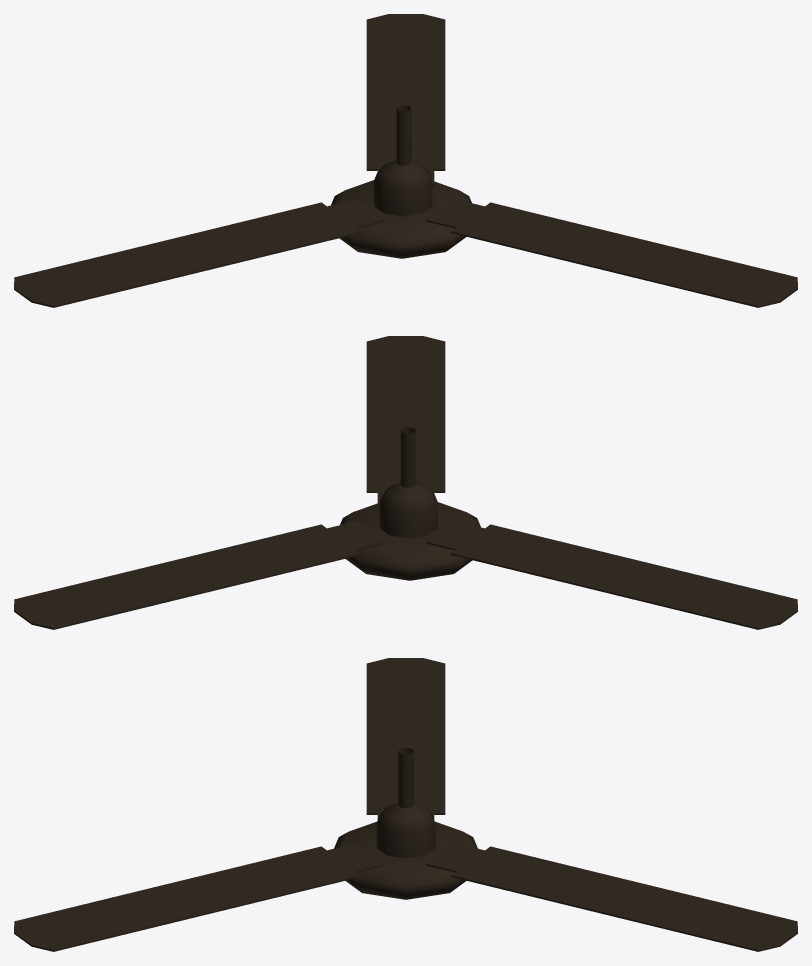
3 renders of one model, top to bottom at view 1: azimuth 30°, elevation 25°; view 2: azimuth 150°, elevation 25°; view 3: azimuth 270°, elevation 25°, orthographic.
Visible parts, largest first — view 1: blade2_low, blade1_low, blade3_low, body_low; view 2: blade3_low, blade2_low, blade1_low, body_low; view 3: blade3_low, blade1_low, blade2_low, body_low.
Part boxes in pixels (x1,y1,x2,y2): blade2_low: [14, 199, 385, 307]; blade1_low: [426, 199, 797, 307]; blade3_low: [366, 14, 445, 185]; body_low: [331, 105, 471, 258]; blade3_low: [14, 521, 385, 629]; blade2_low: [426, 521, 797, 629]; blade1_low: [366, 336, 445, 507]; body_low: [340, 427, 480, 580]; blade3_low: [426, 843, 797, 951]; blade1_low: [14, 843, 385, 951]; blade2_low: [366, 658, 445, 819]; body_low: [334, 748, 477, 899].
Bounding box in the file's own units: 8.77 × 1.88 × 9.95.
Materials: 1 (1 with a texture image).
